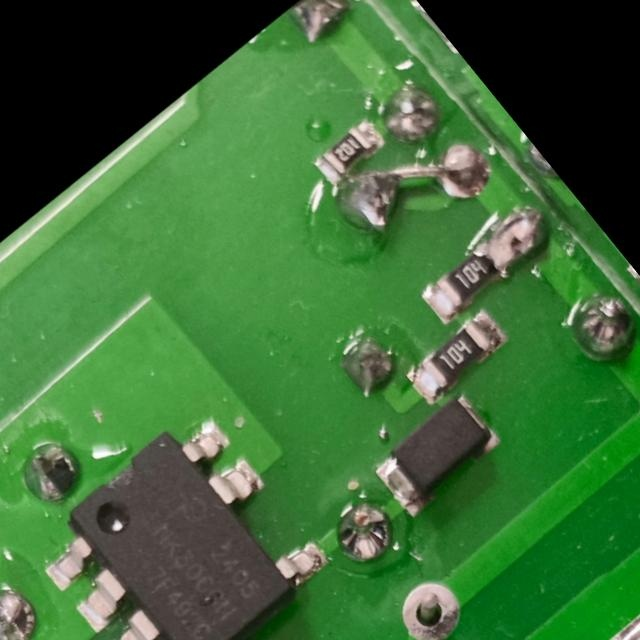chip-resistor: (398, 305, 512, 410), (410, 232, 514, 329), (304, 113, 388, 191), (404, 0, 461, 62)
diode: (363, 389, 505, 523)
ic: (18, 399, 334, 640)
